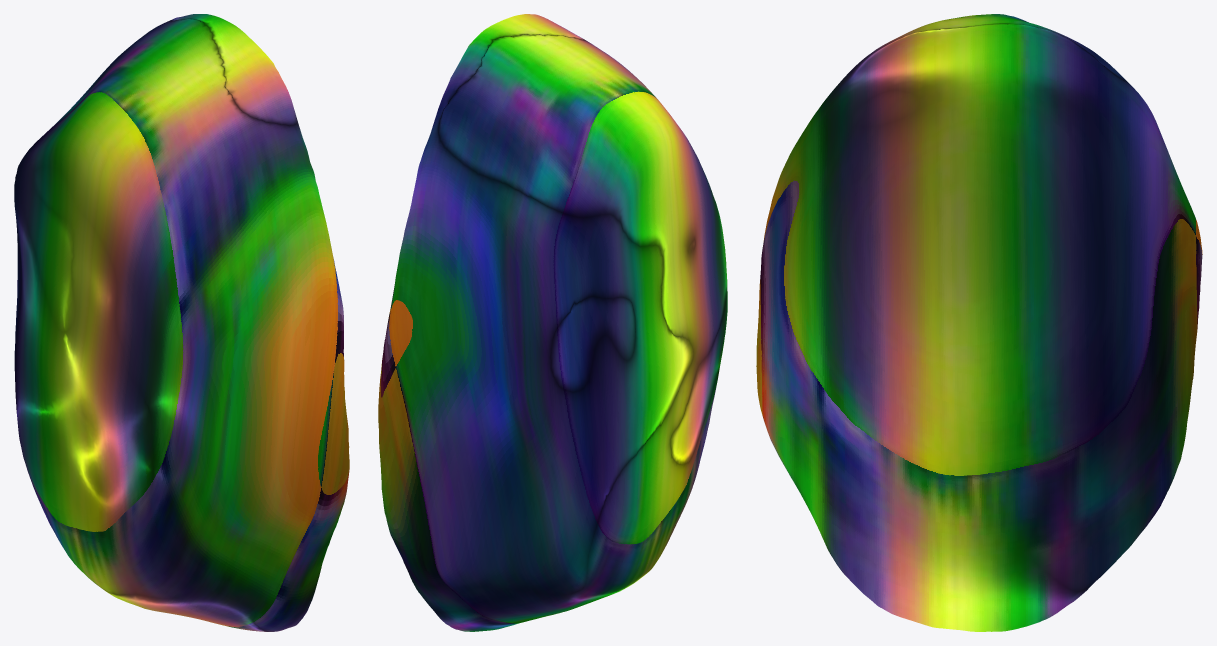
3 renders of one model, left to right at view 1: azimuth 30°, elevation 25°; view 2: azimuth 150°, elevation 25°; view 3: azimuth 270°, elevation 25°, orthographic.
Parts seen in each view (by area): view 1: Renderer Node; view 2: Renderer Node; view 3: Renderer Node.
Boxes of the visible parts, left/top/right/bottom form: Renderer Node: left=14, top=14, right=349, bottom=631; Renderer Node: left=378, top=14, right=727, bottom=631; Renderer Node: left=756, top=14, right=1202, bottom=631.
Size of the model in its own units: 0.1498 by 0.4352 by 0.2923.
1 material, 1 textured.
